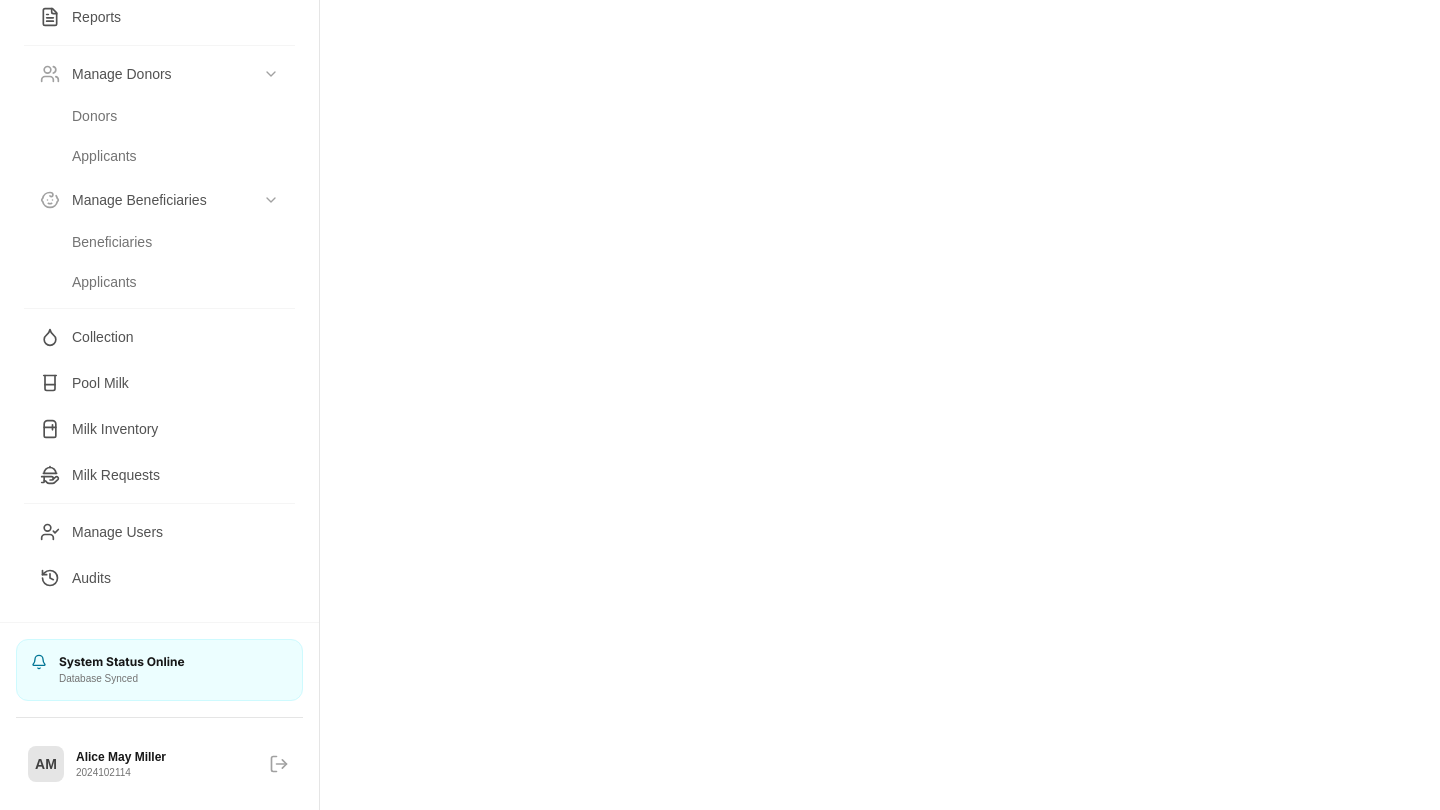
Test: StaffSidebar Component › opens logout confirmation modal when logout button is clicked
(page scrolled)
Click logout button
Click the button with test id "logout-btn": (279, 764) [263, 748, 295, 780]
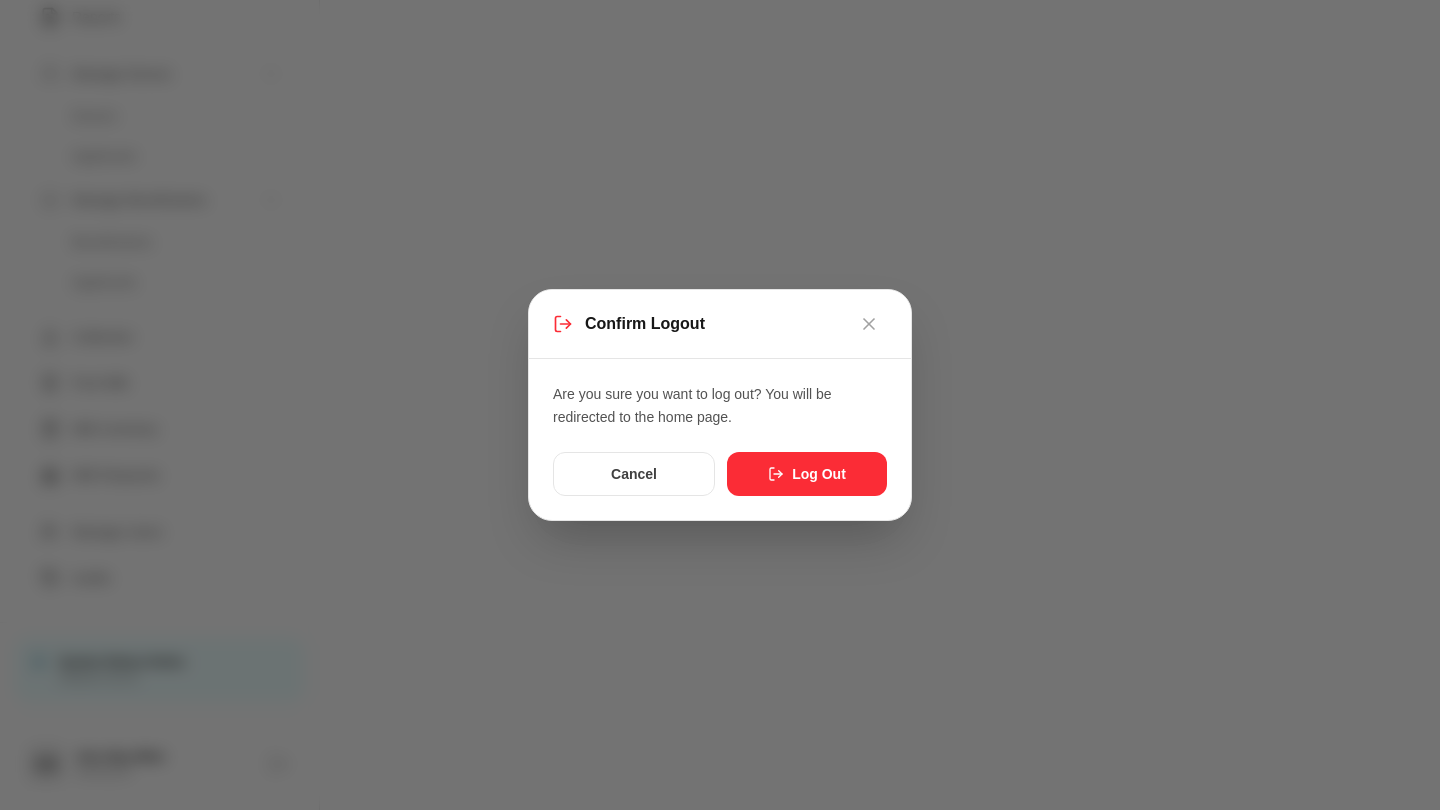
Expected: the element with test id "logout-modal" is shown
Expected: the button with test id "confirm-logout-btn" is shown, [727, 452, 887, 496]
Expected: the button with test id "cancel-logout-btn" is shown, [553, 452, 715, 496]
